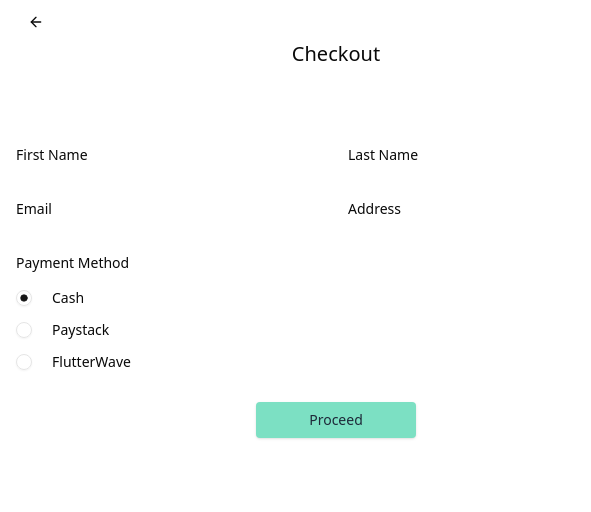
Test: Checkout Component › shows validation messages for empty fields
Click the button "Proceed".
click(336, 420)  # box [256,402,416,438]
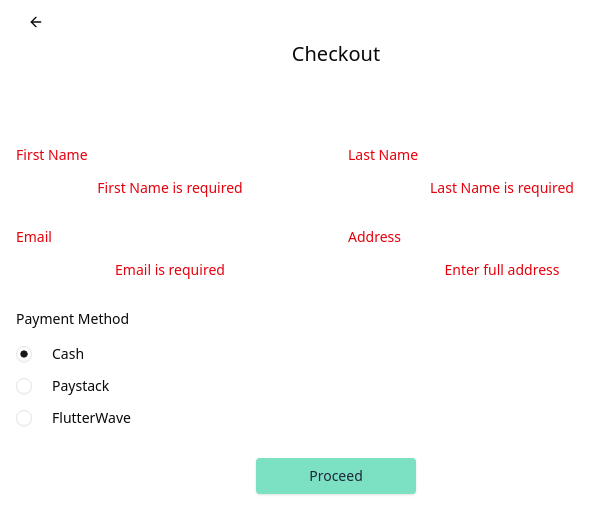
Check: the text "First Name is required" is shown, box [97,178,243,197]
Check: the text "Last Name is required" is shown, box [430,178,574,197]
Check: the text "Email is required" is shown, box [115,260,225,279]
